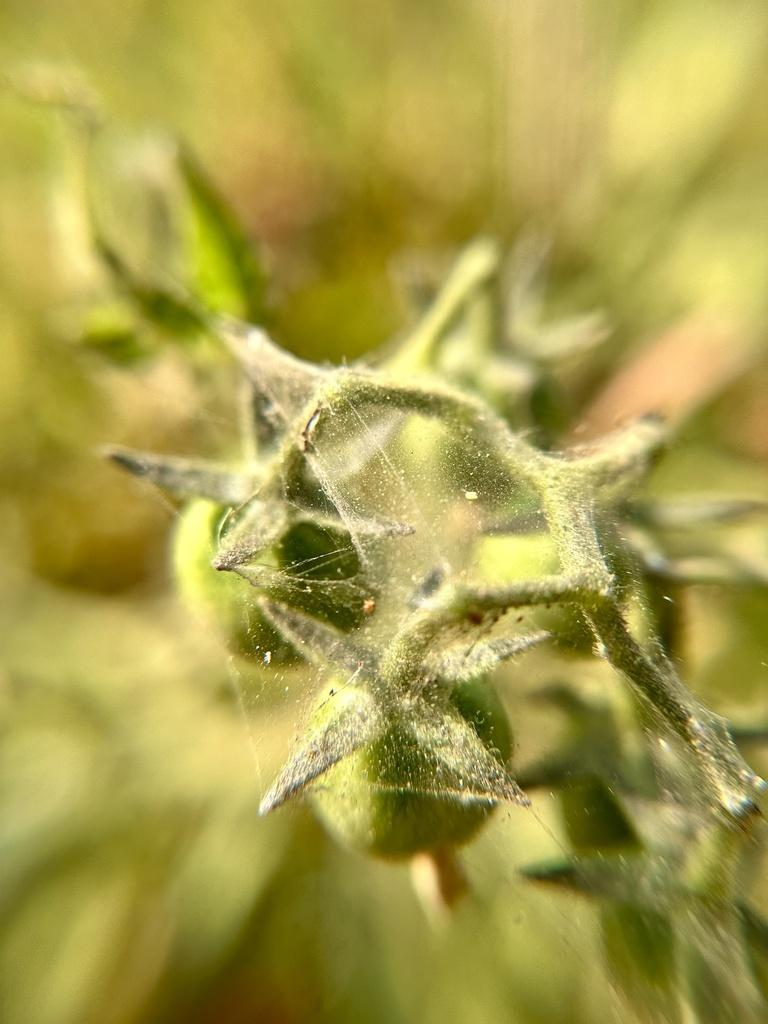tiny_pests: (490, 597, 528, 631), (359, 593, 382, 617)
